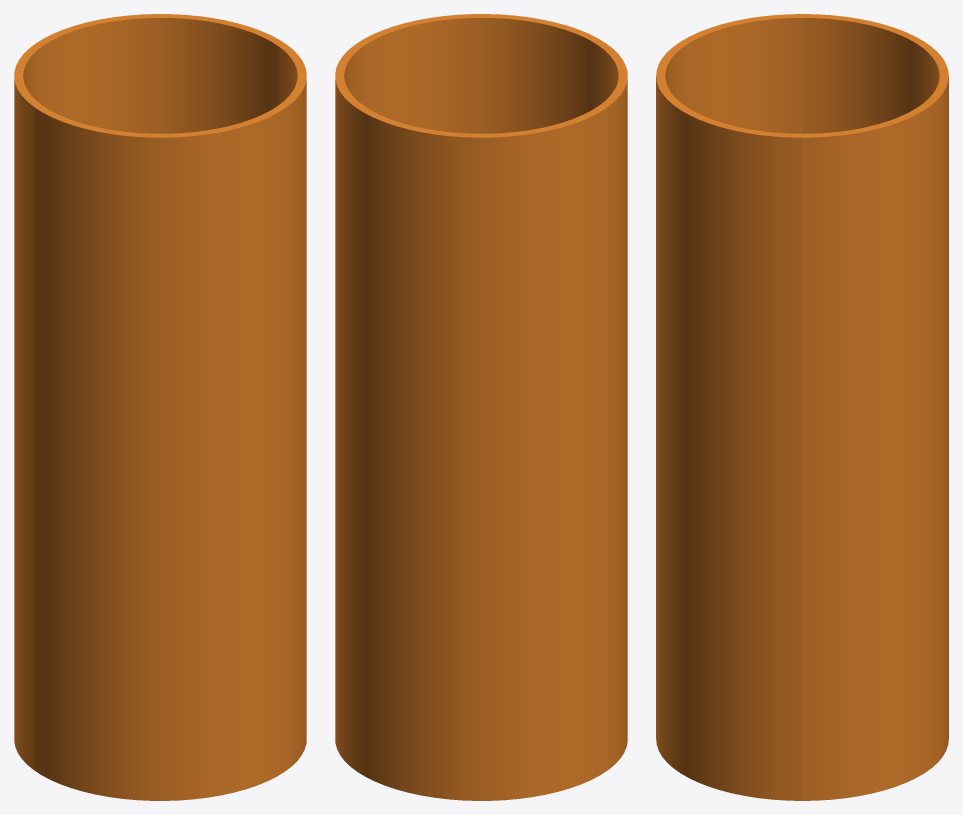
File: falling_film_evaporator_temperature.glb
3 views of the same model, side by side, from view 1: azimuth 30°, elevation 25°; view 2: azimuth 150°, elevation 25°; view 3: azimuth 270°, elevation 25° (orthographic).
Visible parts, largest first — view 1: temperature__front, temperature__back; view 2: temperature__back, temperature__front; view 3: temperature__back, temperature__front.
Part boxes in pixels (x1,y1,x2,y2): temperature__front: (33, 45, 306, 800); temperature__back: (14, 14, 286, 769); temperature__back: (335, 45, 608, 800); temperature__front: (355, 14, 627, 769); temperature__back: (802, 14, 948, 800); temperature__front: (656, 14, 802, 800).
Size of the model in its own units: 0.8 by 2 by 0.8.
